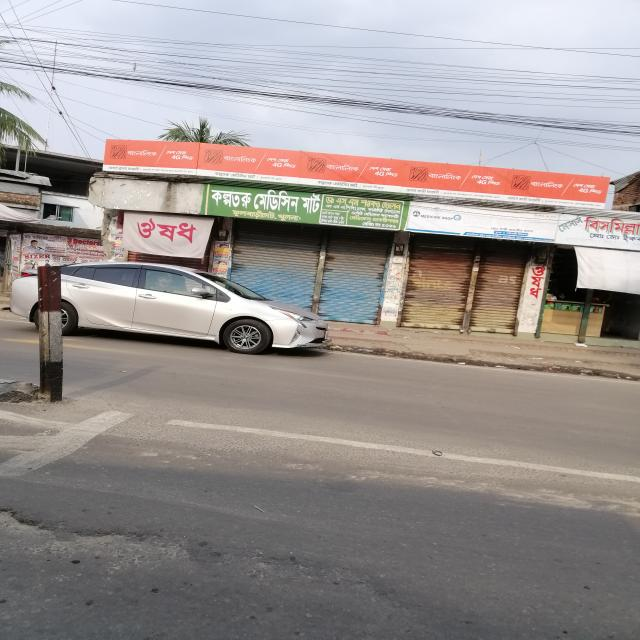Car: (7, 245, 354, 376)
